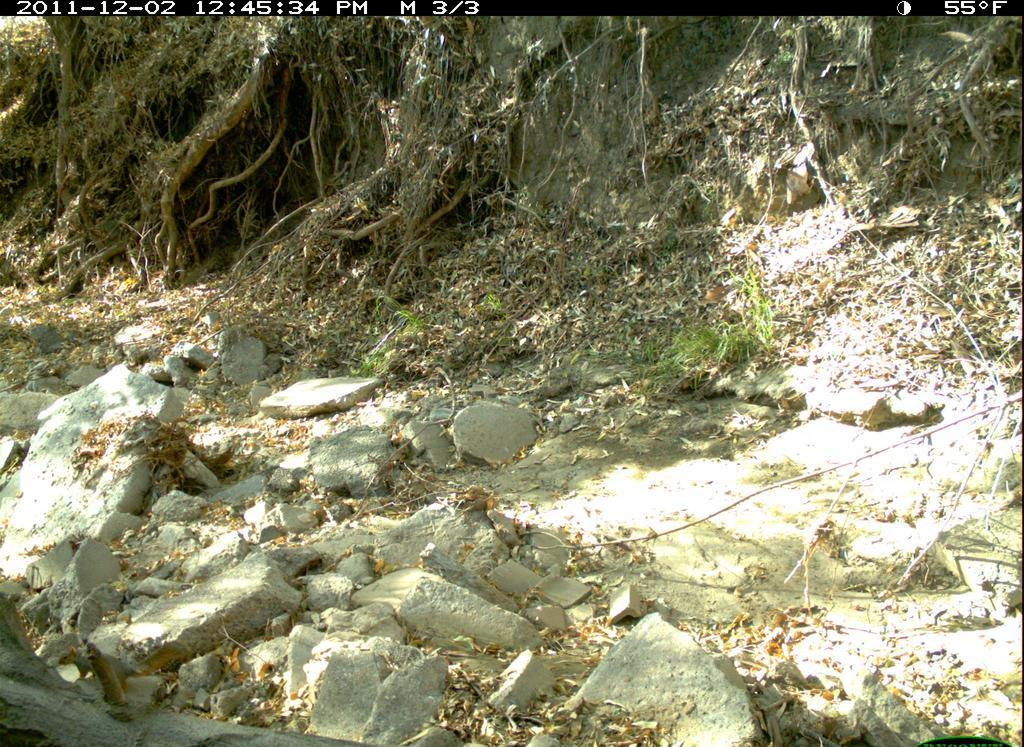squirrel: (75, 632, 148, 725)
